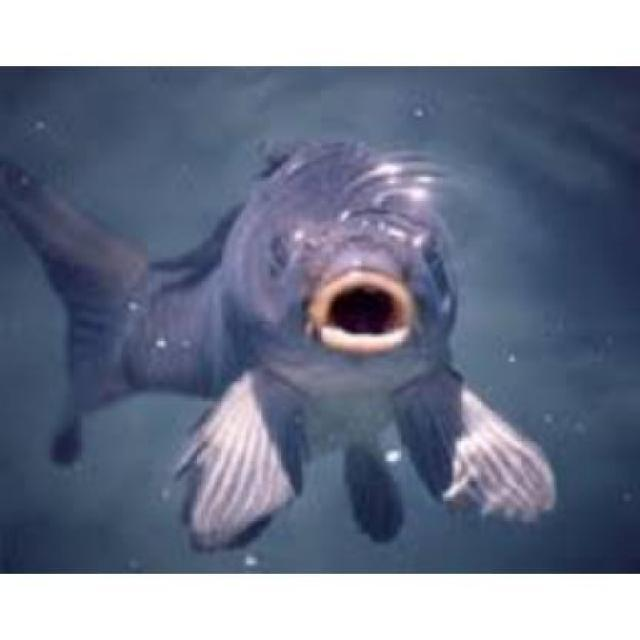ikan-mas: (33, 118, 521, 534)
